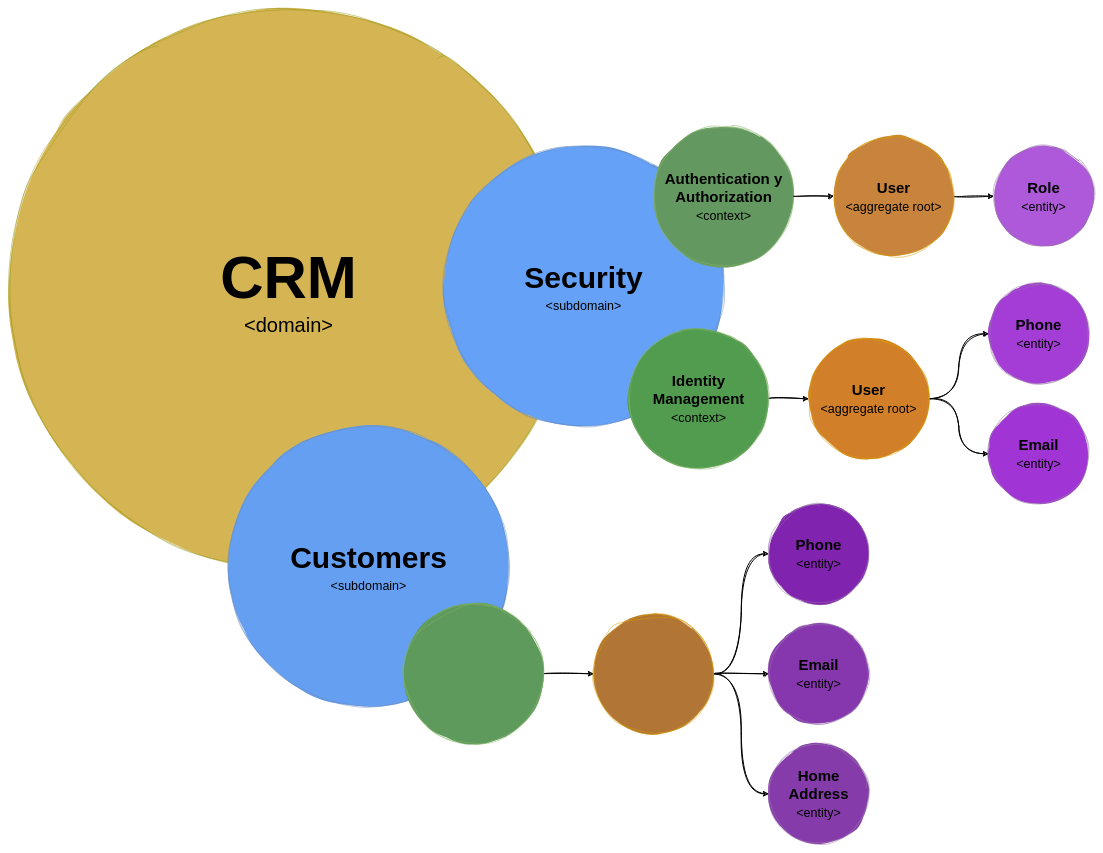
The diagram is 1103 pixels wide and 853 high, and some of its shapes have lost their labels. Here are the shapes that lost their labels. From the top down, the centre of each, then its label:
At (x=473, y=673): "Contacts Management <context>".
At (x=653, y=673): "Customer <aggregate root>".
